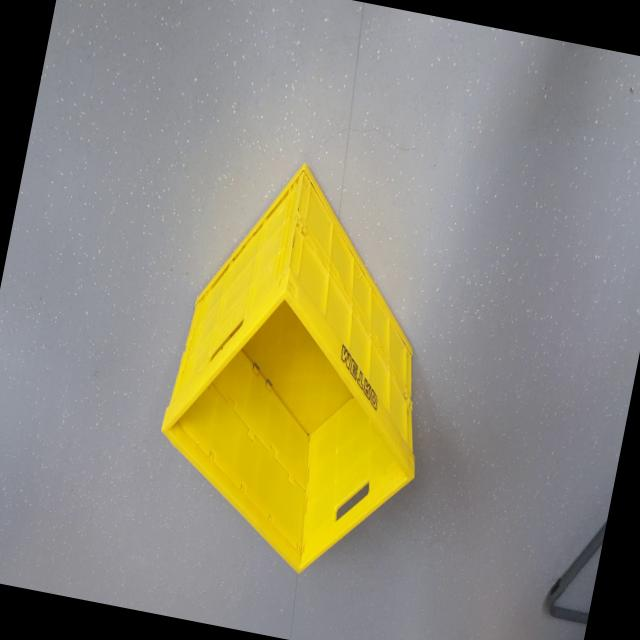box: (130, 124, 478, 610)
